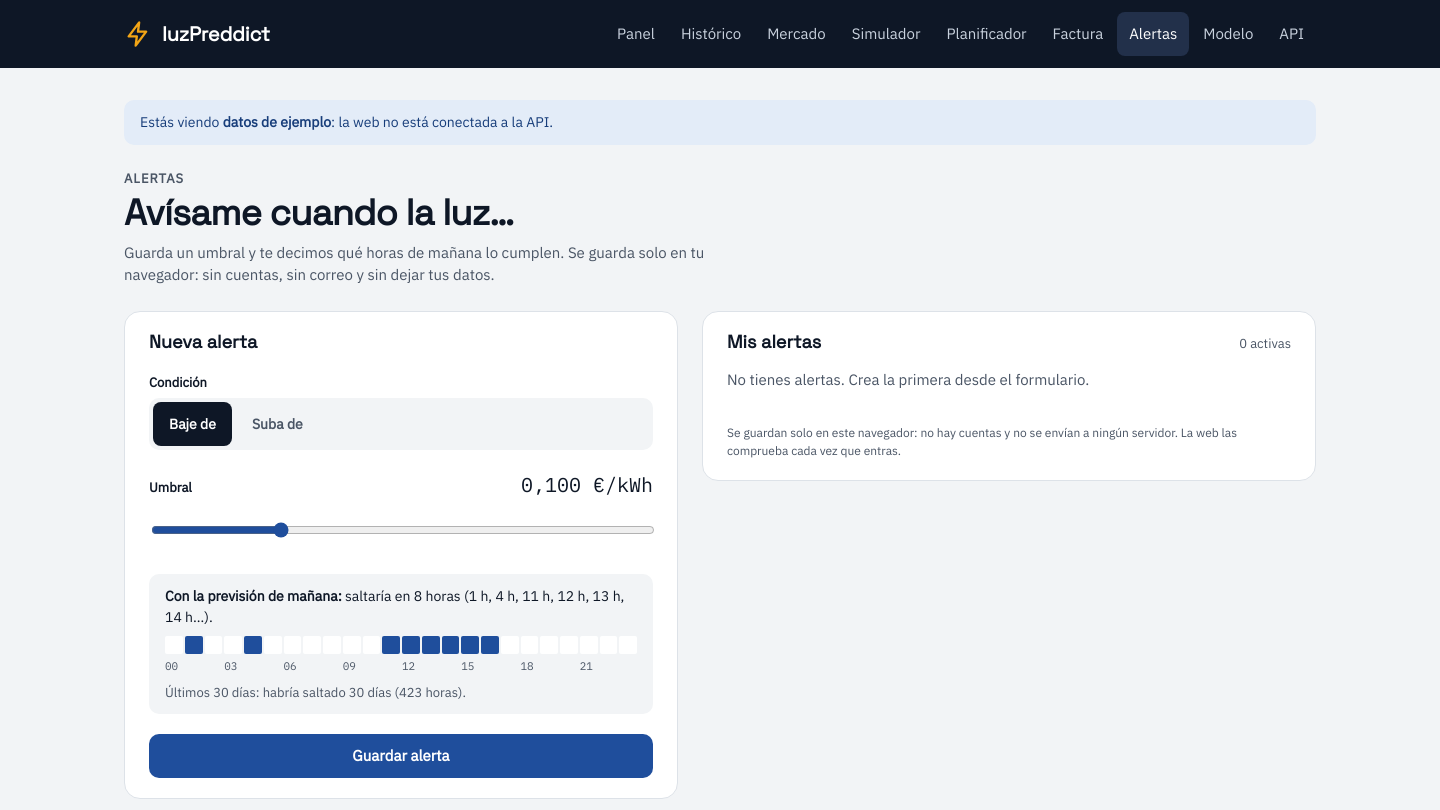
Alertas › previsualiza la alerta con la previsión de mañana y su historial
Set the slider labelled "Umbral" to "400" at x=647, y=530, box [151,508,655,552]
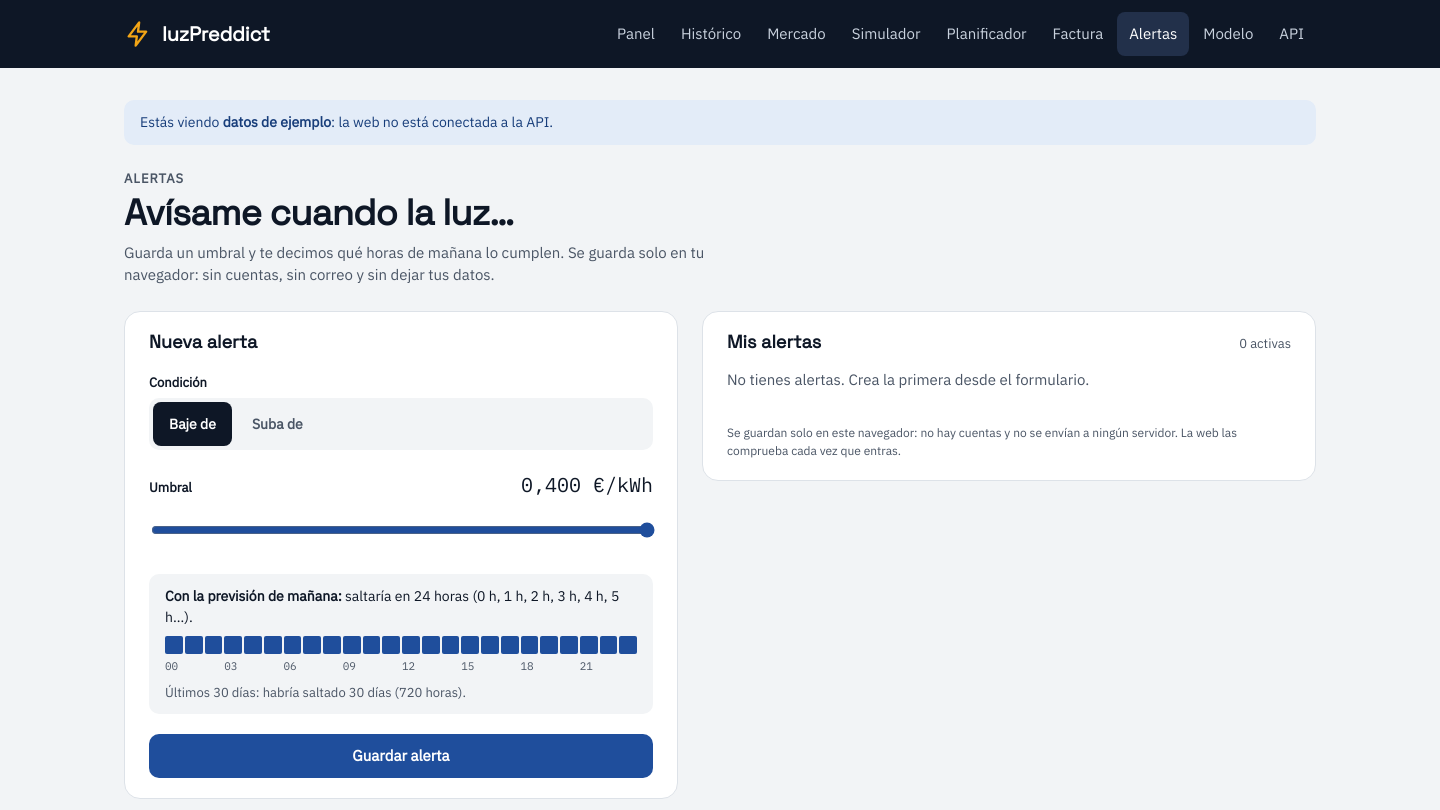
Check: the text "0,400 €/kWh" is shown, box [521,470,653,500]
Check: the element "Nueva alerta" shows "saltaría en 24 horas", box [124,311,678,799]
